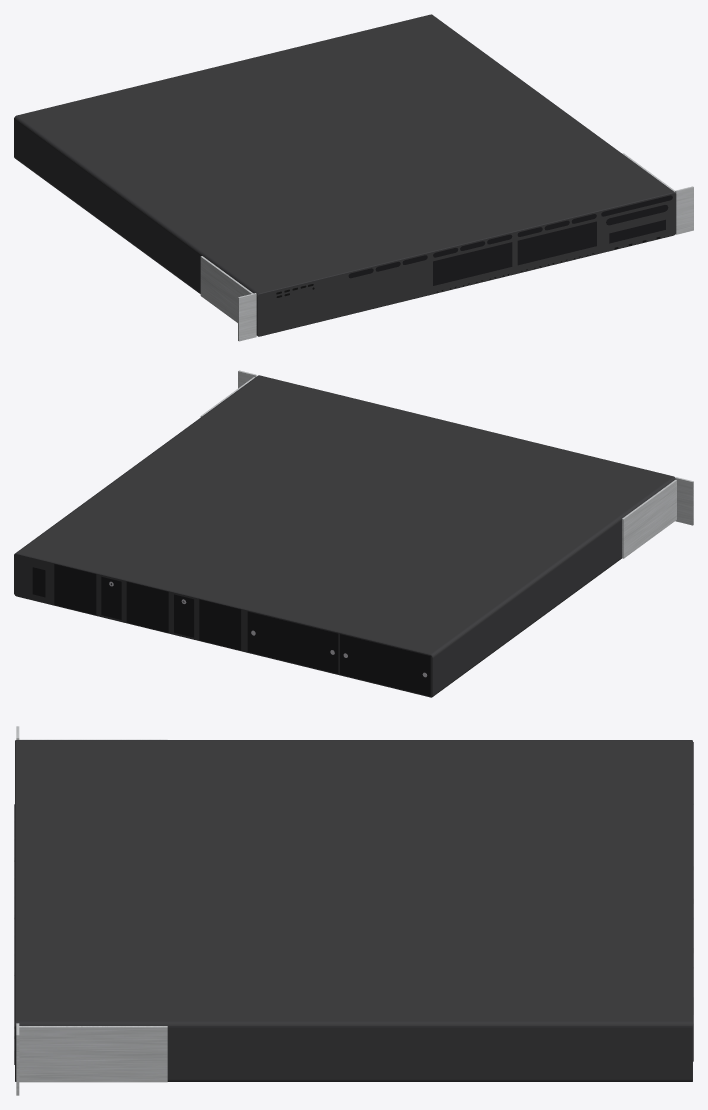
File: WS-C3650-24PS.far.glb
3 renders of one model, top to bottom at view 1: azimuth 30°, elevation 25°; view 2: azimuth 150°, elevation 25°; view 3: azimuth 270°, elevation 25°, orthographic. The views are drawn at different scales.
Visible parts, largest first — view 1: Shell_far; view 2: Shell_far; view 3: Shell_far.
Boxes of the visible parts, box(x1,y1,x2,y2) form: Shell_far: box(14, 14, 693, 341); Shell_far: box(14, 370, 693, 697); Shell_far: box(14, 726, 693, 1095).
Bounding box in the file's own units: 0.4826 × 0.044 × 0.4488.
4 materials, 3 textured.
